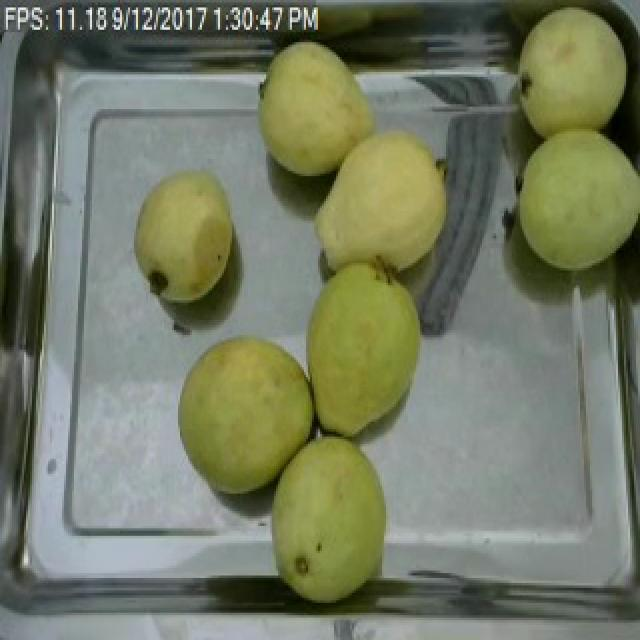Fruit: (306, 112, 462, 285), (172, 325, 322, 501), (260, 424, 398, 610), (298, 253, 432, 444), (250, 27, 394, 186), (502, 117, 640, 280), (502, 0, 638, 159), (128, 161, 242, 310)
